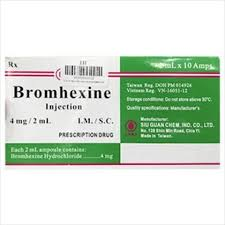Bromhexin: (16, 89, 109, 99)
